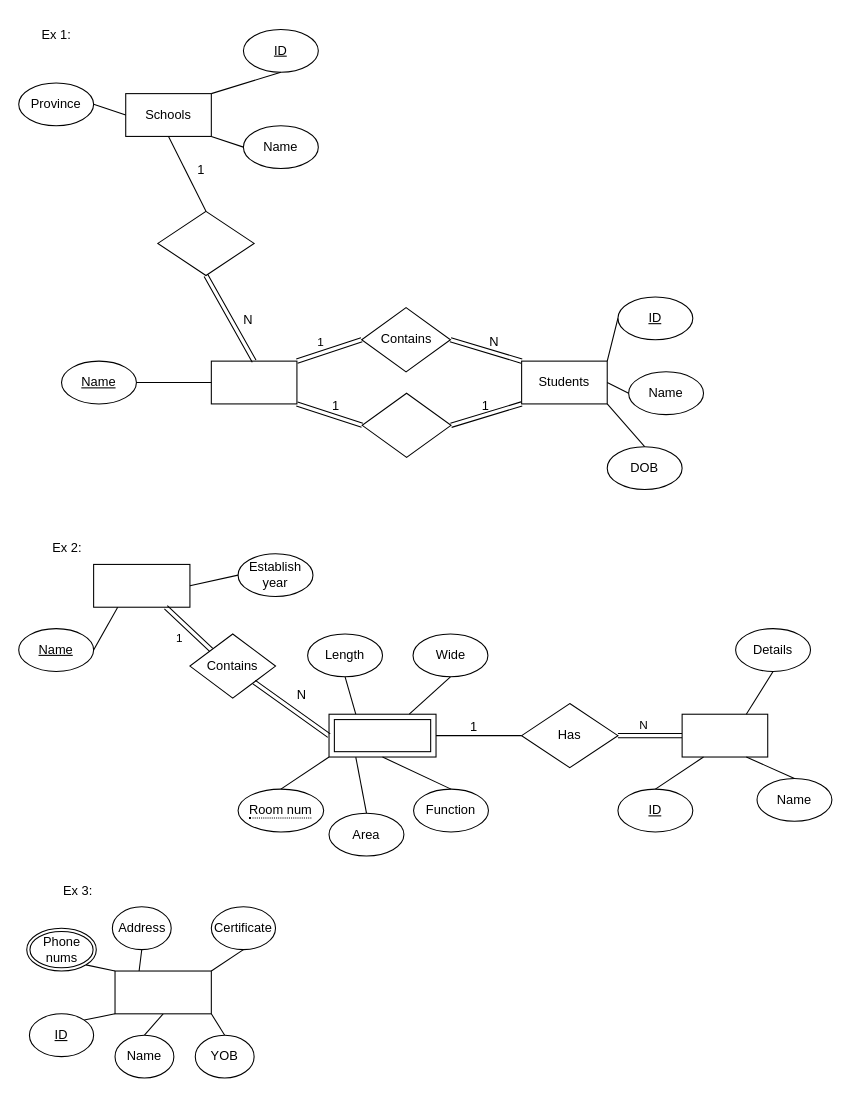
Image size: 851x1097. Some labels were removed from this diagram. Each missing label, with the box of its shape:
Buildings: (93, 563, 190, 607)
Compete: (157, 210, 254, 276)
Leader: (361, 392, 451, 457)
Rooms: (328, 713, 436, 757)
Supplies: (681, 713, 768, 757)
Teachers: (114, 970, 211, 1014)
Teams: (210, 360, 297, 404)
